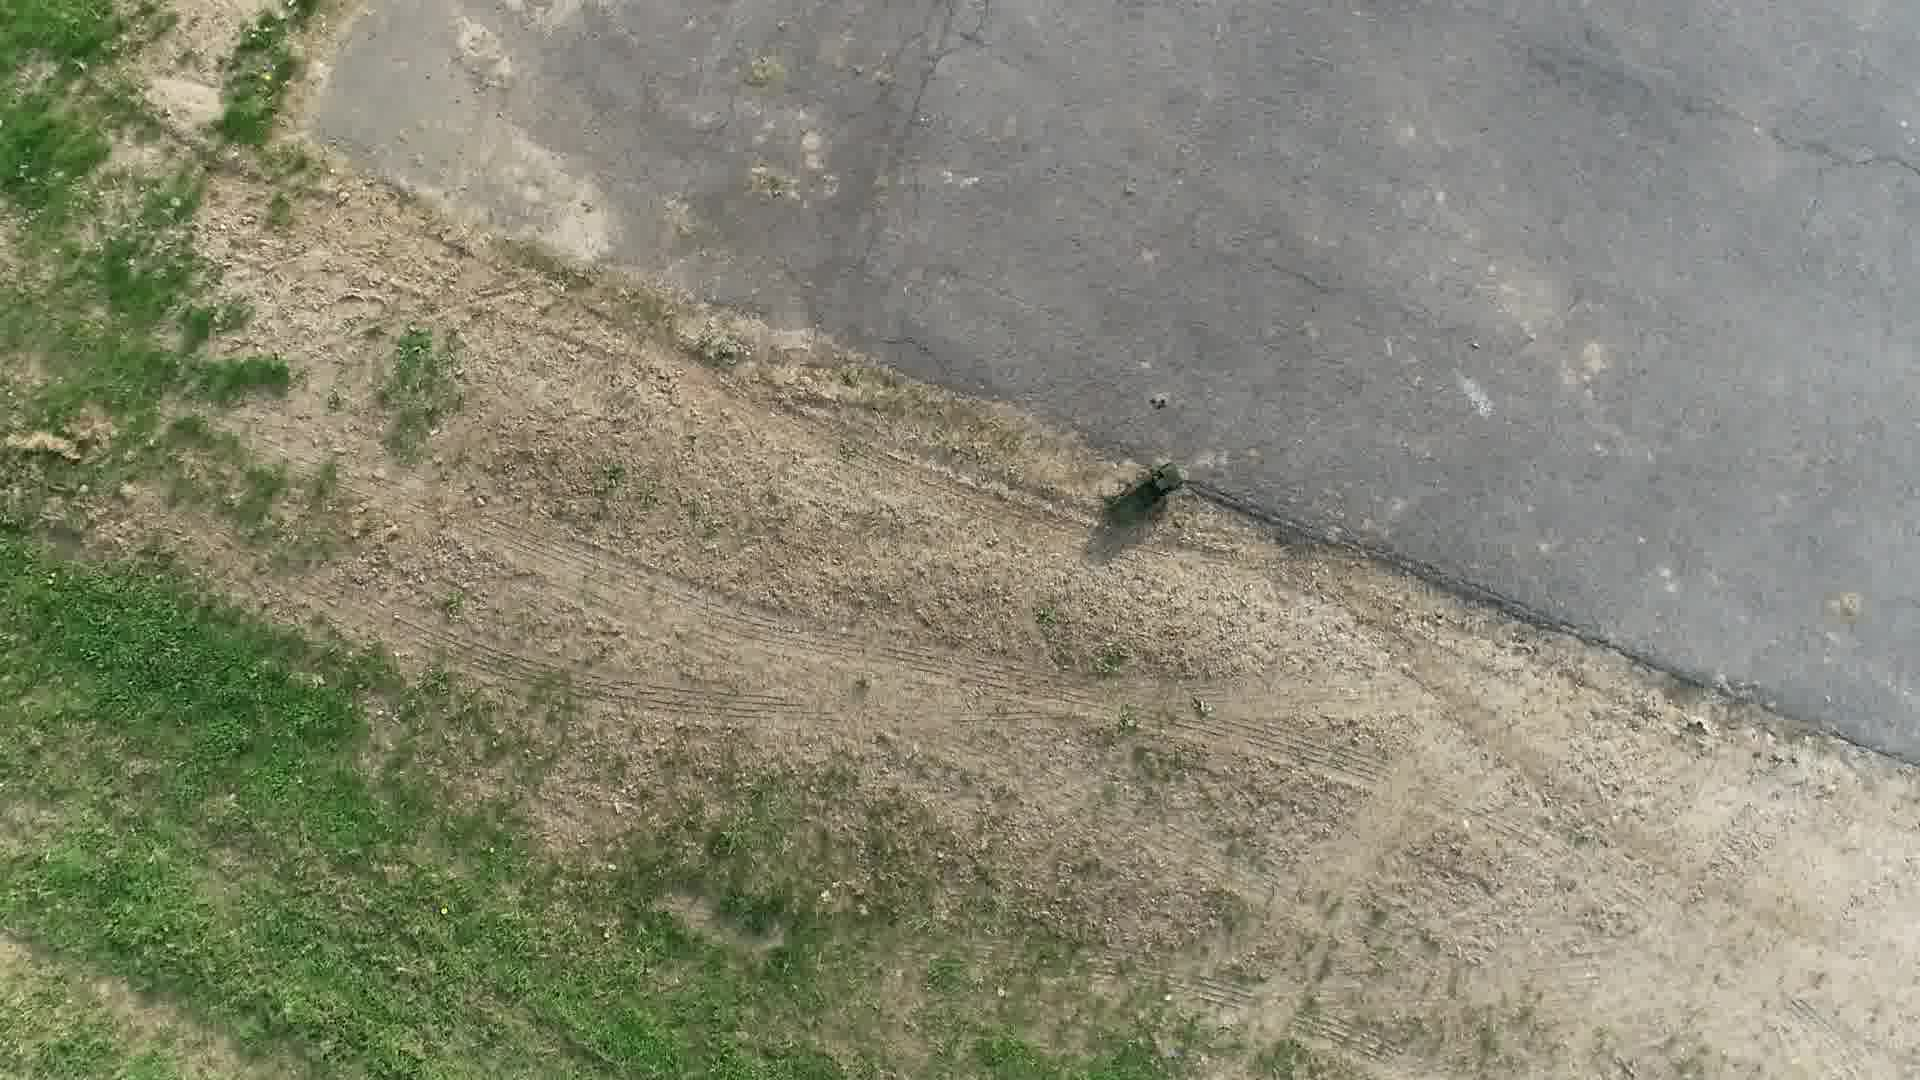transporter9: (1098, 458, 1185, 529)
